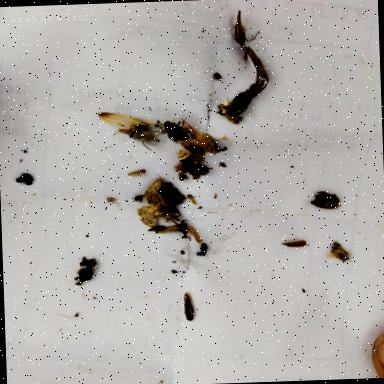pbw: (142, 176, 165, 201), (182, 223, 202, 243), (124, 169, 147, 178)
